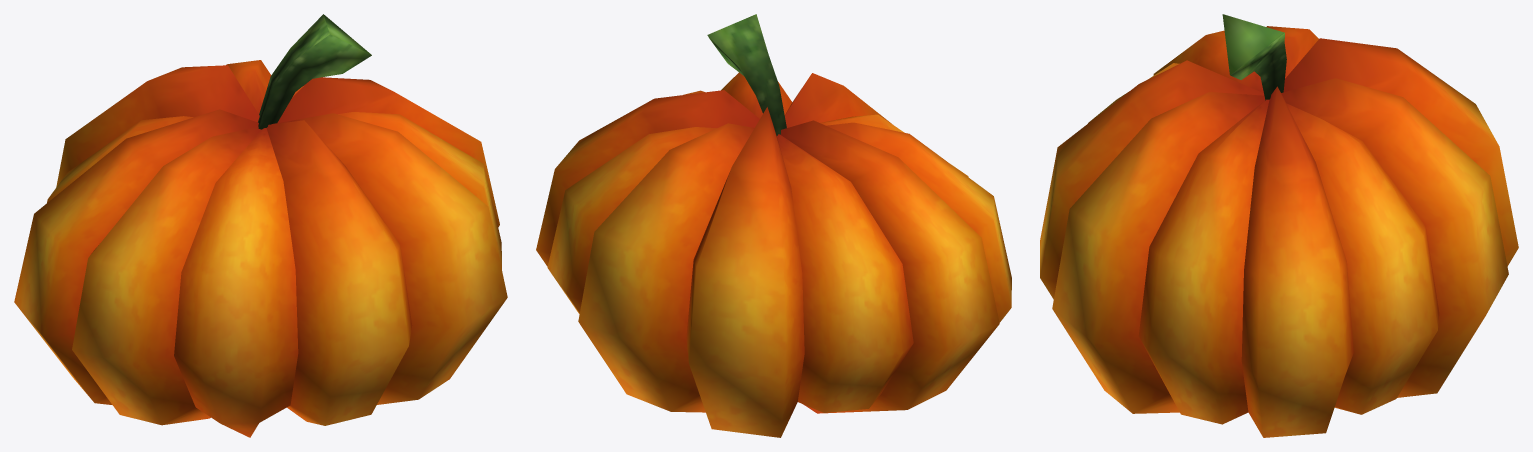
File: Pumpkin.fbx
3 views of the same model, side by side, from view 1: azimuth 30°, elevation 25°; view 2: azimuth 150°, elevation 25°; view 3: azimuth 270°, elevation 25° (orthographic). The views are drawn at different scales.
Parts seen in each view (by area): view 1: Pumpkin_01; view 2: Pumpkin_01; view 3: Pumpkin_01.
Boxes of the visible parts, x1,y1,x2,y2 form: Pumpkin_01: (14,14,507,437); Pumpkin_01: (536,14,1011,437); Pumpkin_01: (1040,14,1518,437).
Bounding box in the file's own units: 82.33 × 66.19 × 69.39.
